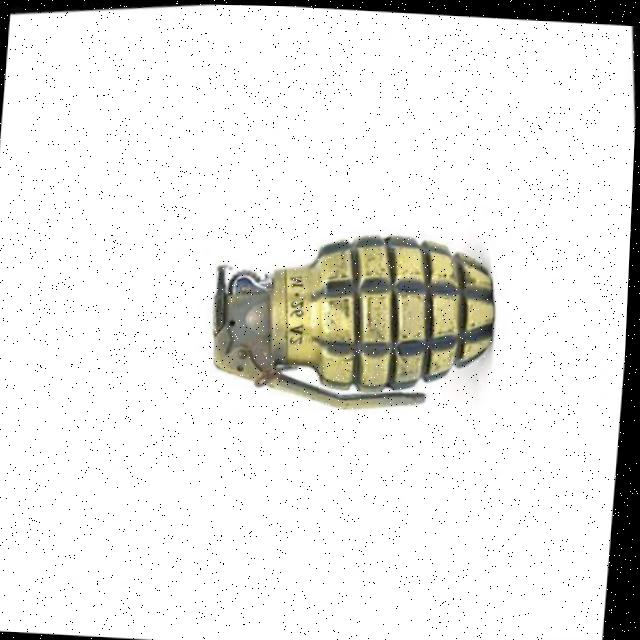grenade: (191, 206, 512, 434)
